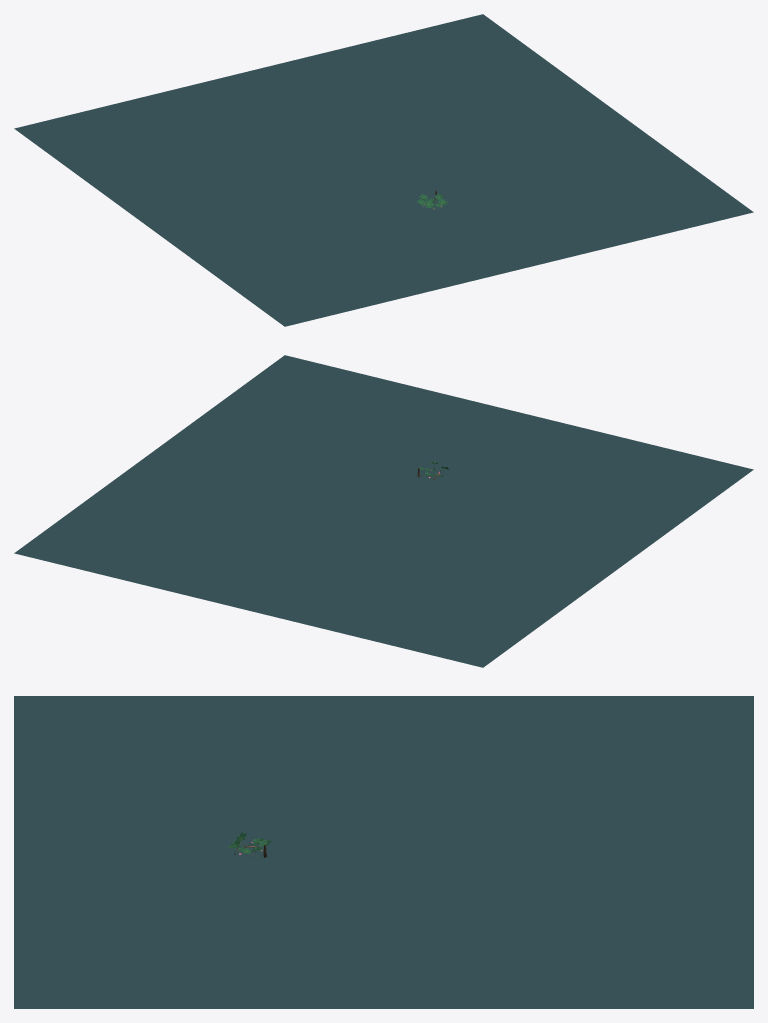
The model's file is garden.glb.
3 renders of one model, top to bottom at view 1: azimuth 30°, elevation 25°; view 2: azimuth 150°, elevation 25°; view 3: azimuth 270°, elevation 25°, orthographic. The views are drawn at different scales.
Parts seen in each view (by area): view 1: pond_water; view 2: pond_water; view 3: pond_water.
Part boxes in pixels (x1=…): pond_water: x1=14, y1=14, x2=753, y2=326; pond_water: x1=14, y1=355, x2=753, y2=667; pond_water: x1=14, y1=696, x2=753, y2=1008.
Bounding box in the file's own units: 168 × 3.42 × 168.
14 materials, 5 textured.
